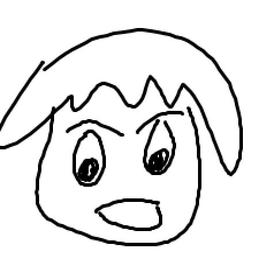eye: (141, 117, 179, 183), (69, 126, 106, 188)
eyebrow: (60, 117, 126, 140)
frowning_eyebrow: (134, 110, 187, 135)
open_mouth: (92, 197, 166, 234)
